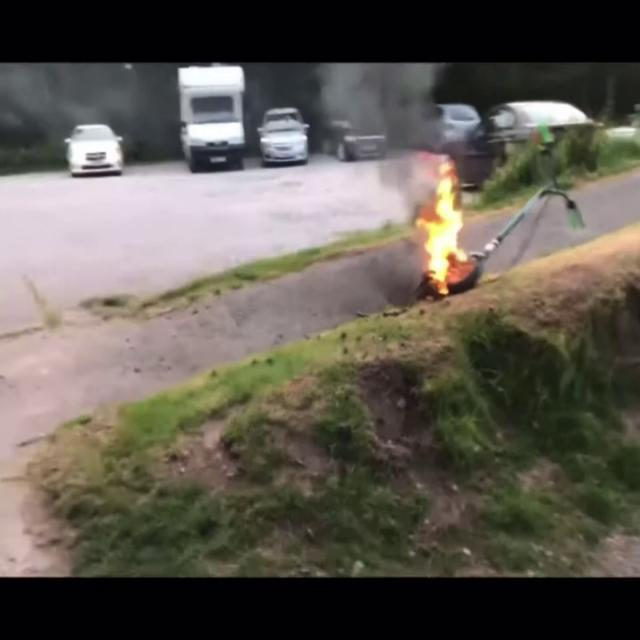Fire: (416, 167, 471, 289)
Smoke: (303, 62, 458, 166)
